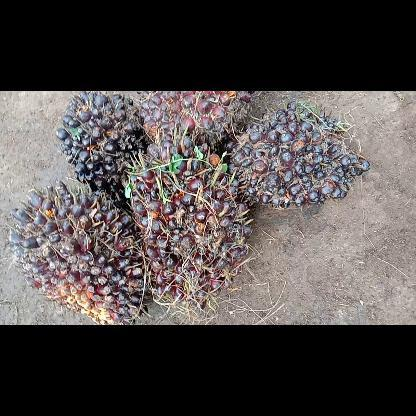TBS mentah: (4, 178, 152, 324), (126, 145, 254, 313), (224, 101, 372, 213), (53, 90, 144, 208), (134, 91, 258, 161)
